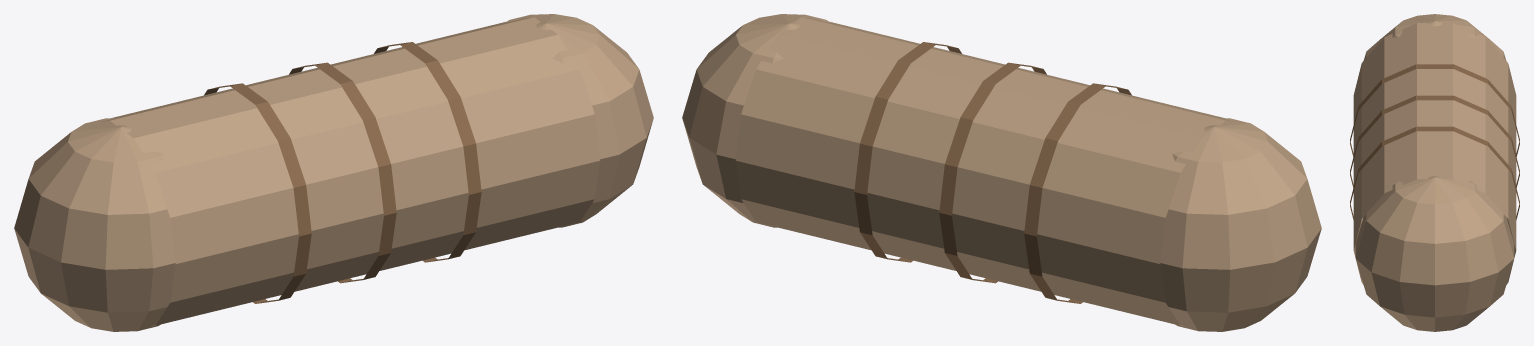
The model's file is bratwurst.glb.
The picture shows the model from 3 angles, left to right: view 1: azimuth 30°, elevation 25°; view 2: azimuth 150°, elevation 25°; view 3: azimuth 270°, elevation 25°; orthographic projection. The views are drawn at different scales.
Visible parts, largest first — view 1: bratwurst; view 2: bratwurst; view 3: bratwurst.
Part boxes in pixels (x1,y1,x2,y2): bratwurst: (14, 14, 653, 331); bratwurst: (682, 14, 1321, 331); bratwurst: (1350, 14, 1519, 331).
Bounding box in the file's own units: 15 × 4.67 × 4.79.
